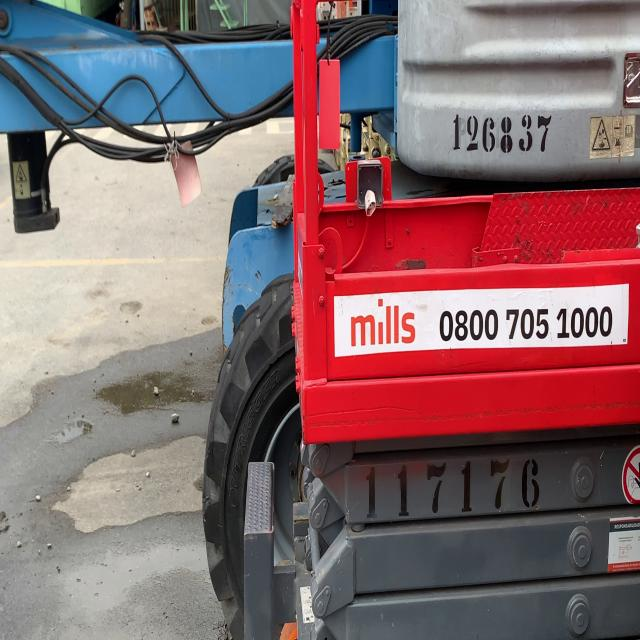Adesivo Longo: (331, 282, 631, 360)
